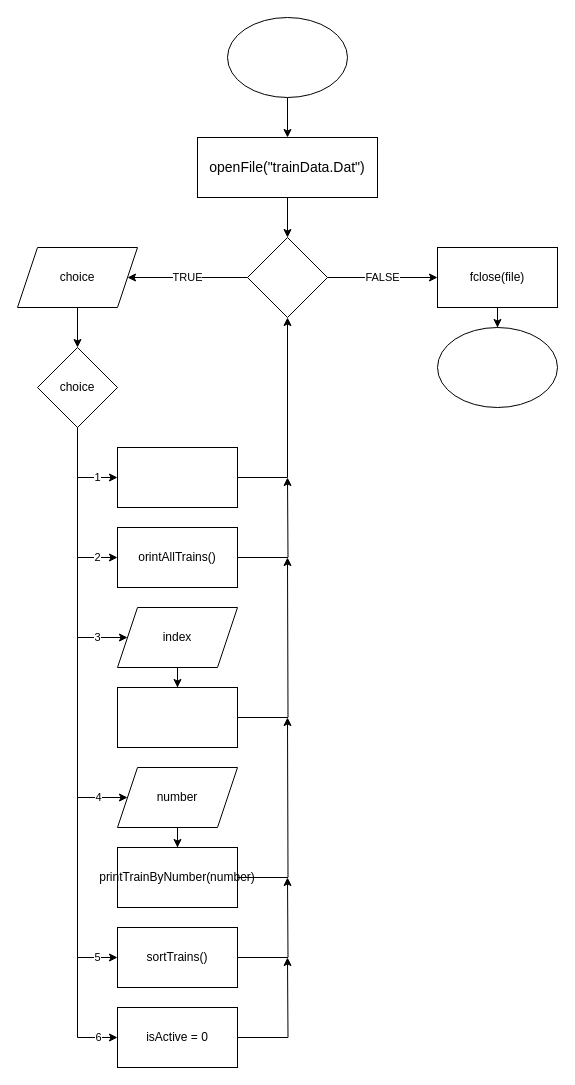
This 575x1085 diagram has some shape labels left out. Here are the shapes that lost their labels. From the top down, the centre of each, then its label:
At point 287,57: "Начало main".
At point 287,277: "isActive".
At point 497,367: "Конец".
At point 177,477: "addTrain()".
At point 177,717: "changeTrain(index)".
